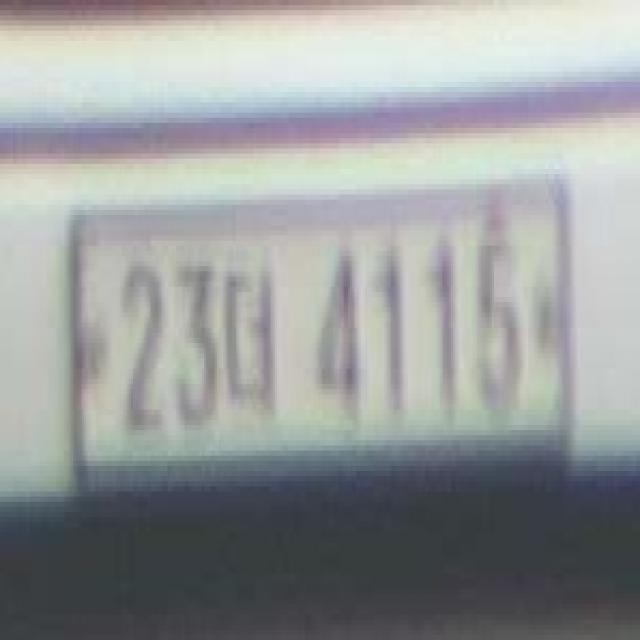1: (367, 235, 415, 425), (418, 224, 461, 423)
2: (116, 255, 168, 440)
3: (171, 251, 224, 435)
4: (310, 240, 371, 426)
5: (471, 219, 527, 418)
deo: (220, 256, 281, 430)
license_plate: (71, 186, 571, 484)
